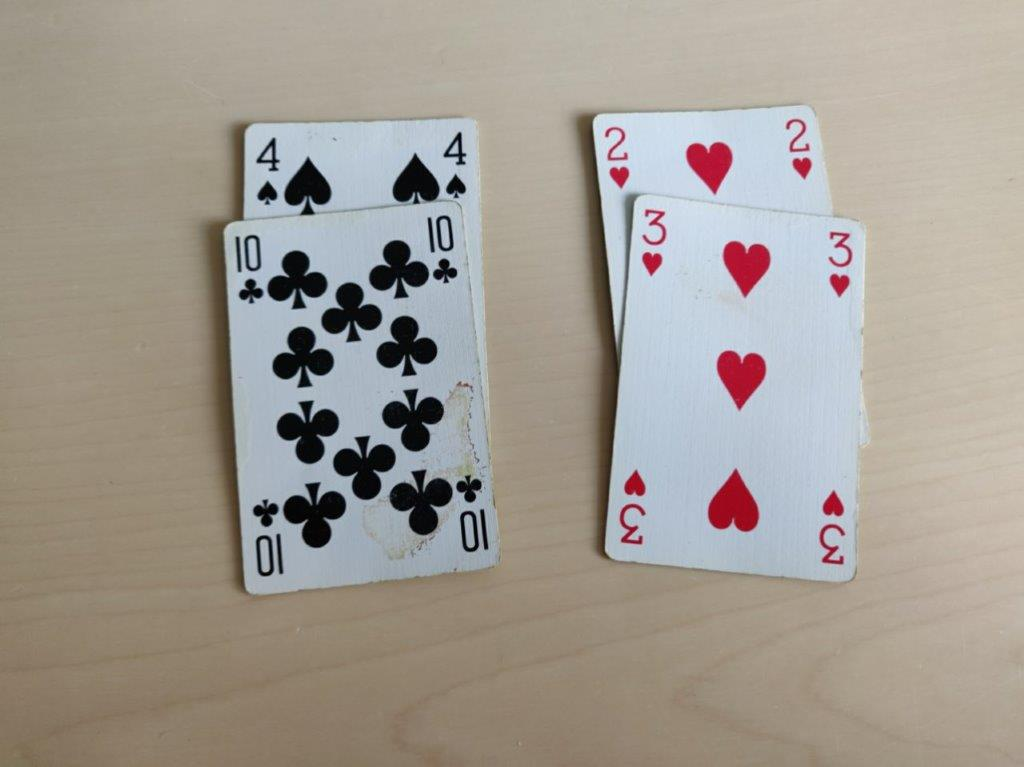10C: (233, 221, 270, 312), (421, 209, 461, 293)
2H: (773, 105, 821, 183), (600, 114, 633, 197)
3H: (635, 198, 677, 281), (817, 225, 859, 305)
4S: (246, 118, 289, 212), (435, 123, 475, 204)
